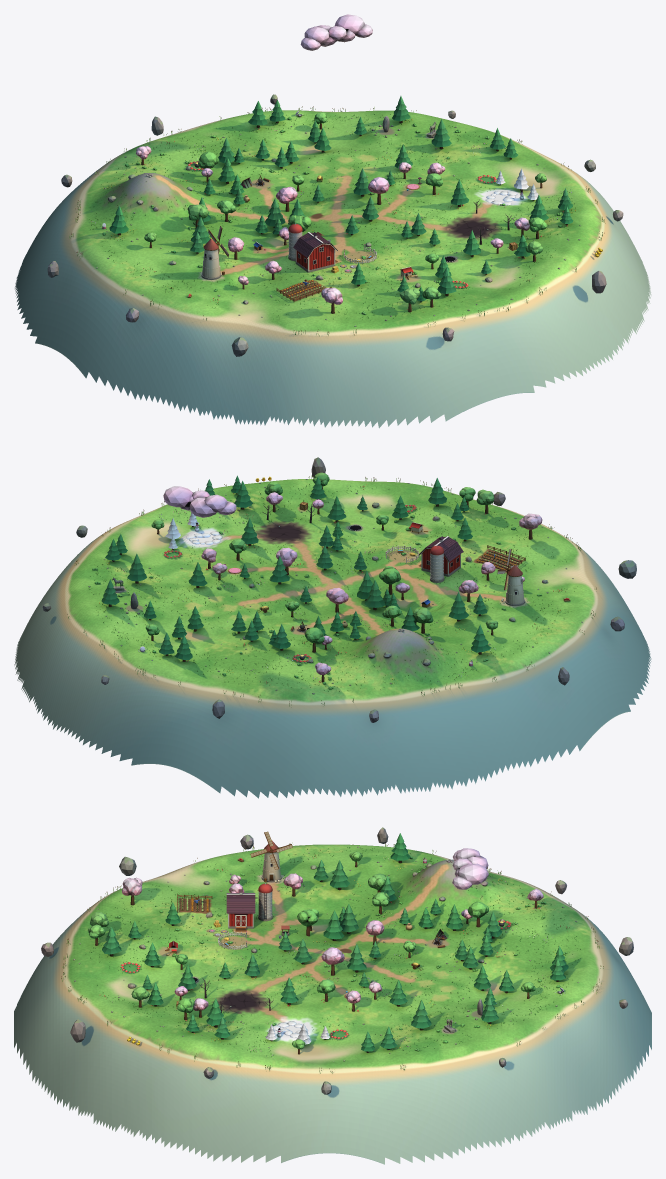
The model's file is world.glb.
The picture shows the model from 3 angles, top to bottom: view 1: azimuth 30°, elevation 25°; view 2: azimuth 150°, elevation 25°; view 3: azimuth 270°, elevation 25°; orthographic projection.
Parts seen in each view (by area): view 1: terrain, props, barn, cloud9; view 2: terrain, props, cloud9, barn; view 3: terrain, props, barn, cloud9.
Boxes of the visible parts, x1=… form: terrain: x1=15, y1=110, x2=651, y2=428; props: x1=47, y1=94, x2=623, y2=356; barn: x1=288, y1=223, x2=337, y2=272; cloud9: x1=300, y1=14, x2=372, y2=50; terrain: x1=14, y1=479, x2=651, y2=798; props: x1=42, y1=457, x2=636, y2=722; cloud9: x1=163, y1=486, x2=236, y2=517; barn: x1=419, y1=536, x2=463, y2=582; terrain: x1=14, y1=844, x2=651, y2=1164; props: x1=41, y1=827, x2=633, y2=1094; barn: x1=226, y1=883, x2=272, y2=928; cloud9: x1=452, y1=848, x2=488, y2=889.
Size of the model in its own units: 208 by 76.53 by 208.
Materials: 4 (2 with a texture image).
